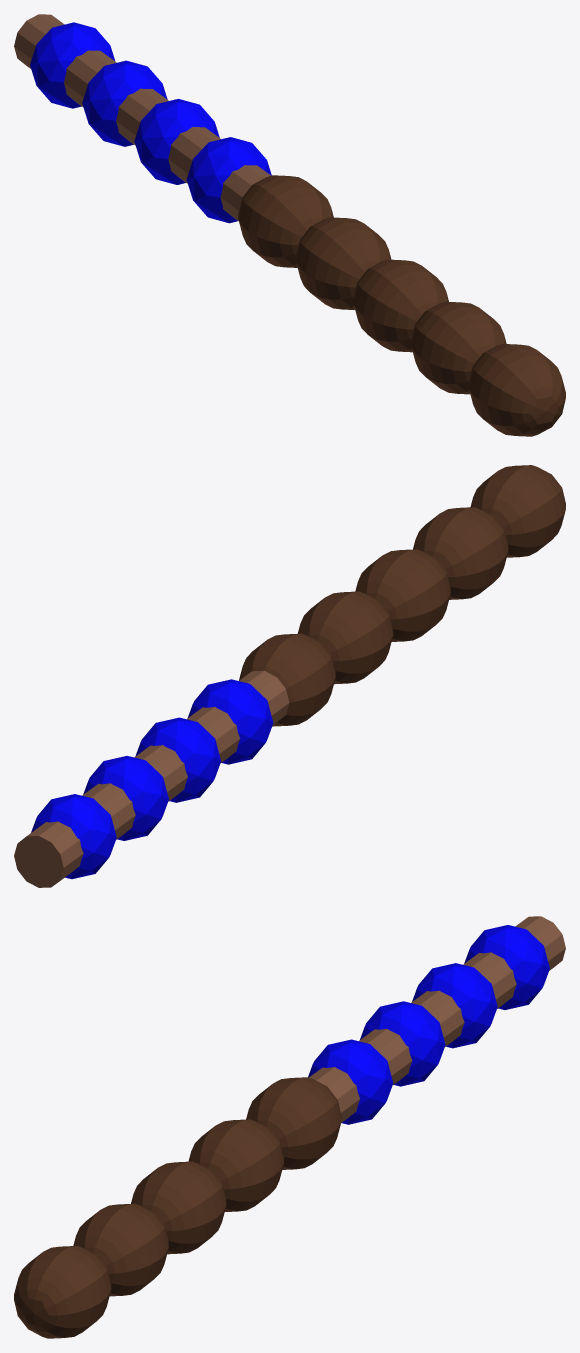
File: Wand 17.glb
The picture shows the model from 3 angles, top to bottom: view 1: azimuth 30°, elevation 25°; view 2: azimuth 150°, elevation 25°; view 3: azimuth 330°, elevation 25°; orthographic projection.
Visible parts, largest first — view 1: GeneratedWand; view 2: GeneratedWand; view 3: GeneratedWand.
Boxes of the visible parts, box(x1,y1,x2,y2) form: GeneratedWand: box(14, 14, 565, 436); GeneratedWand: box(14, 465, 565, 887); GeneratedWand: box(14, 916, 565, 1338).
Bounding box in the file's own units: 0.0447 × 0.0449 × 0.4996.
